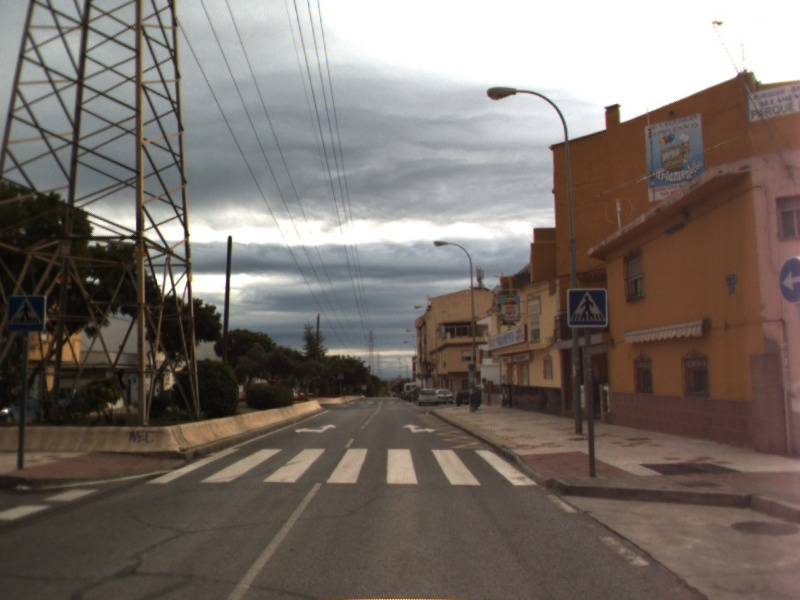STRAIGHT_LEFT: (293, 421, 338, 436)
STRAIGHT_RIGHT: (401, 421, 438, 435)
